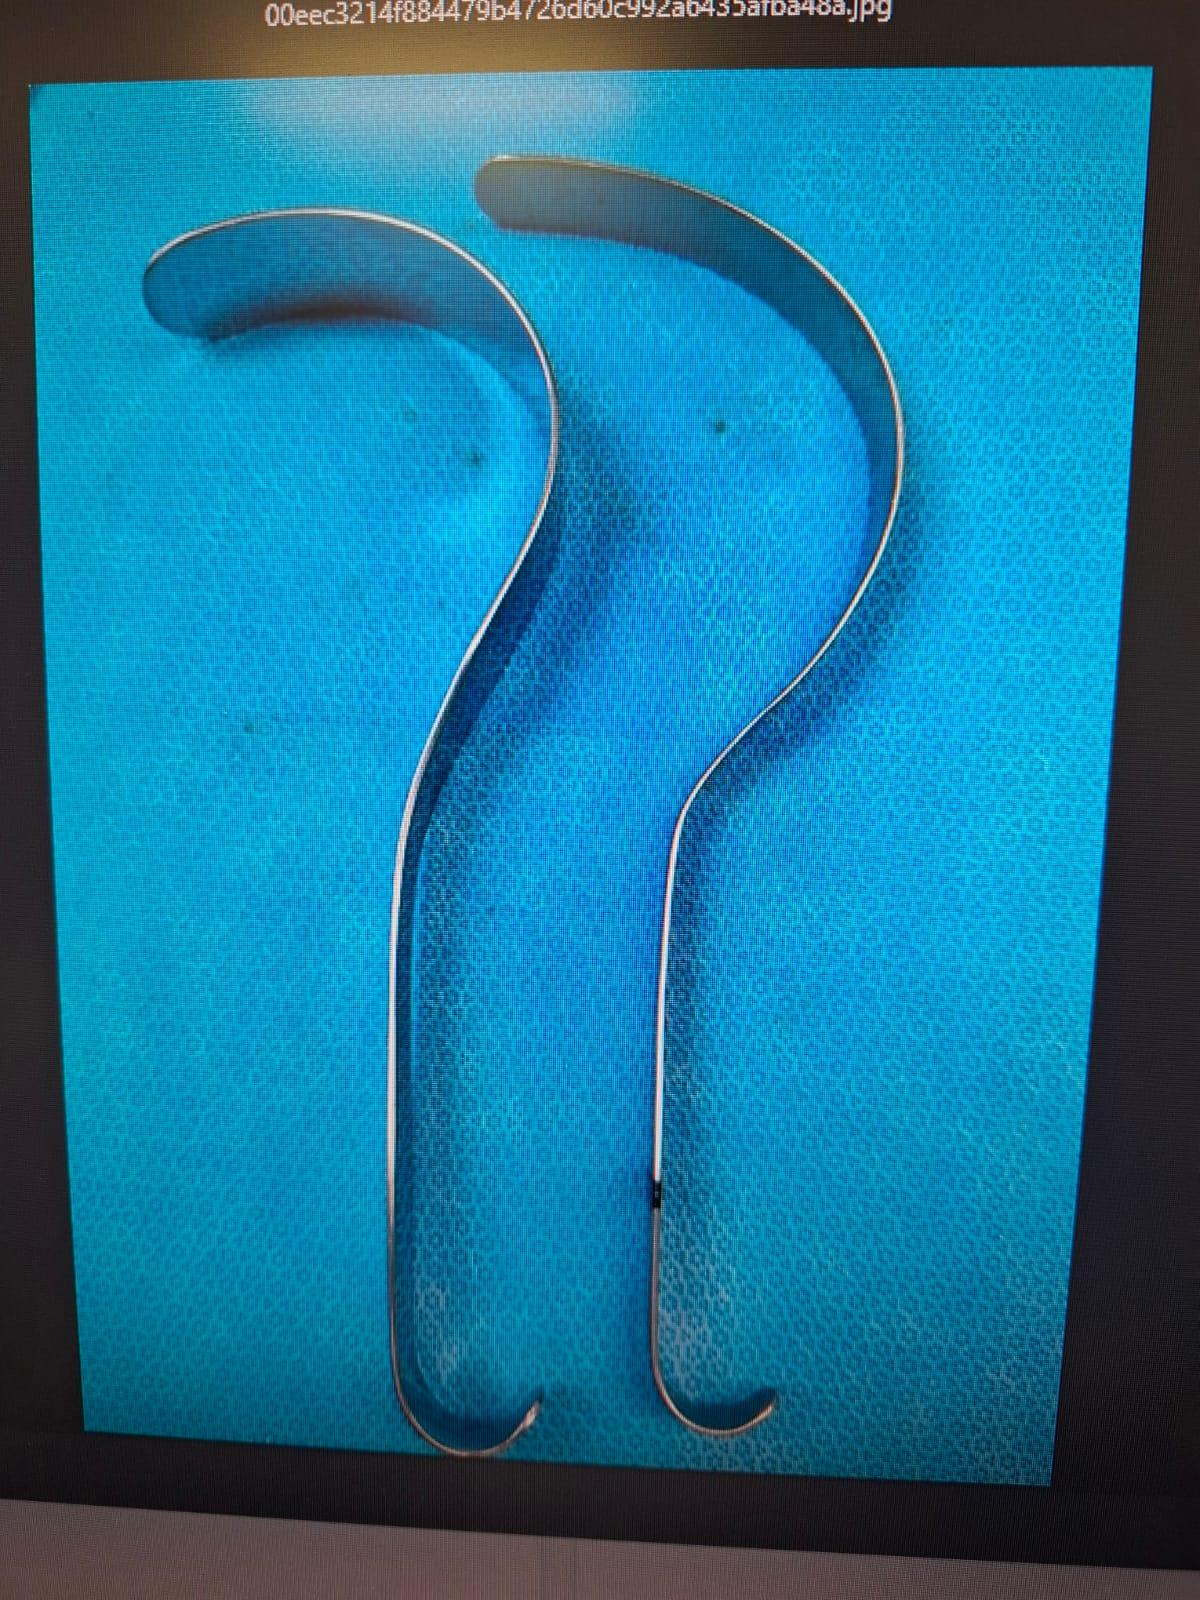Deaver Retractor: (468, 140, 920, 1448), (127, 205, 575, 1480)
